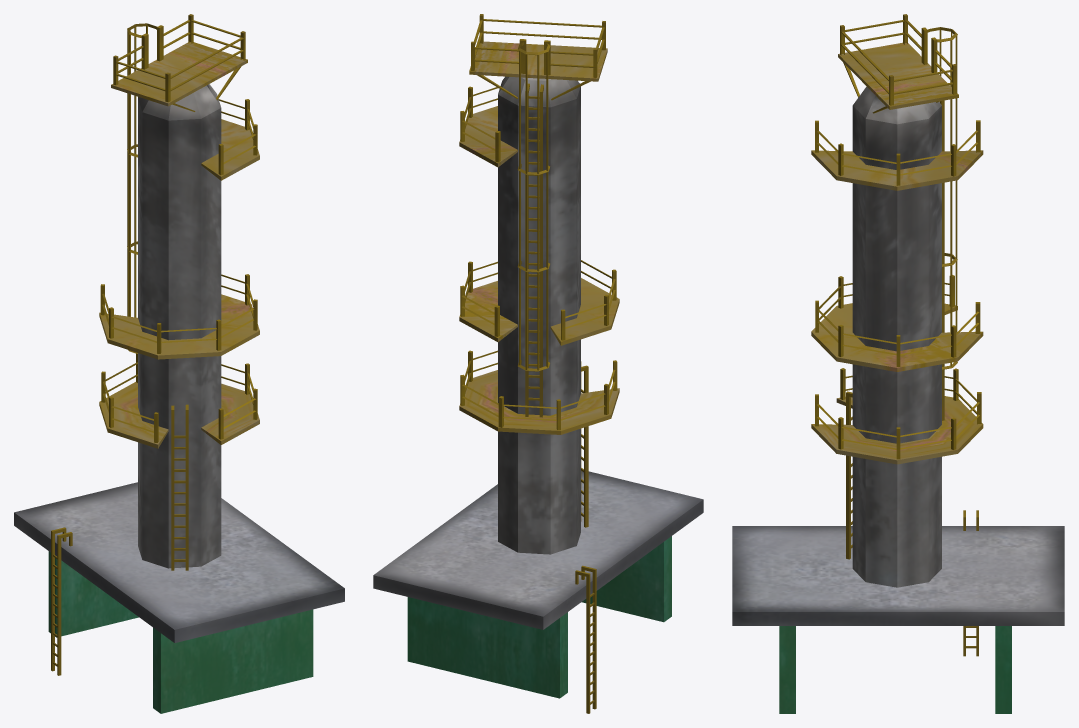
The model's file is torrearmaz1.fbx.
3 views of the same model, side by side, from view 1: azimuth 30°, elevation 25°; view 2: azimuth 150°, elevation 25°; view 3: azimuth 270°, elevation 25° (orthographic). The views are drawn at different scales.
Visible parts, largest first — view 1: Cube.001; view 2: Cube.001; view 3: Cube.001.
Boxes of the visible parts, x1=… form: Cube.001: x1=14, y1=14, x2=344, y2=713; Cube.001: x1=373, y1=14, x2=703, y2=713; Cube.001: x1=732, y1=14, x2=1064, y2=713.
Size of the model in its own units: 410 by 1430 by 652.
